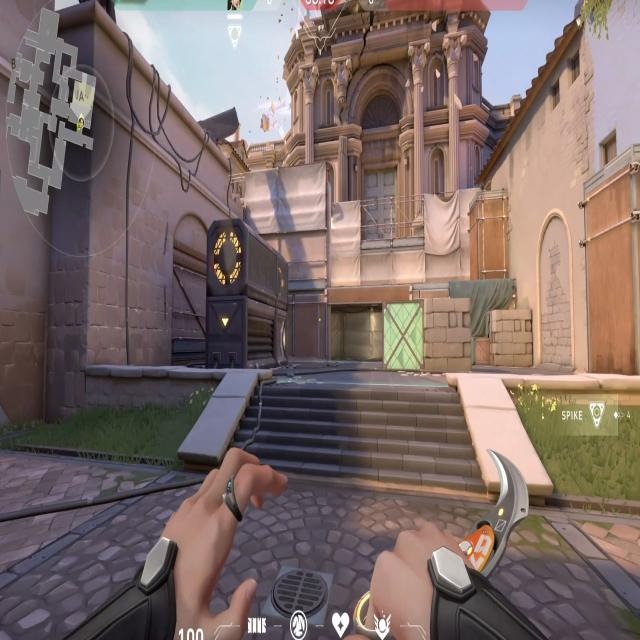A_Heaven_Box: (468, 185, 508, 279)
A_Heaven_Wall: (238, 163, 331, 288)
A_Hell: (318, 288, 424, 364)
A_Site_Box: (381, 299, 475, 369)
